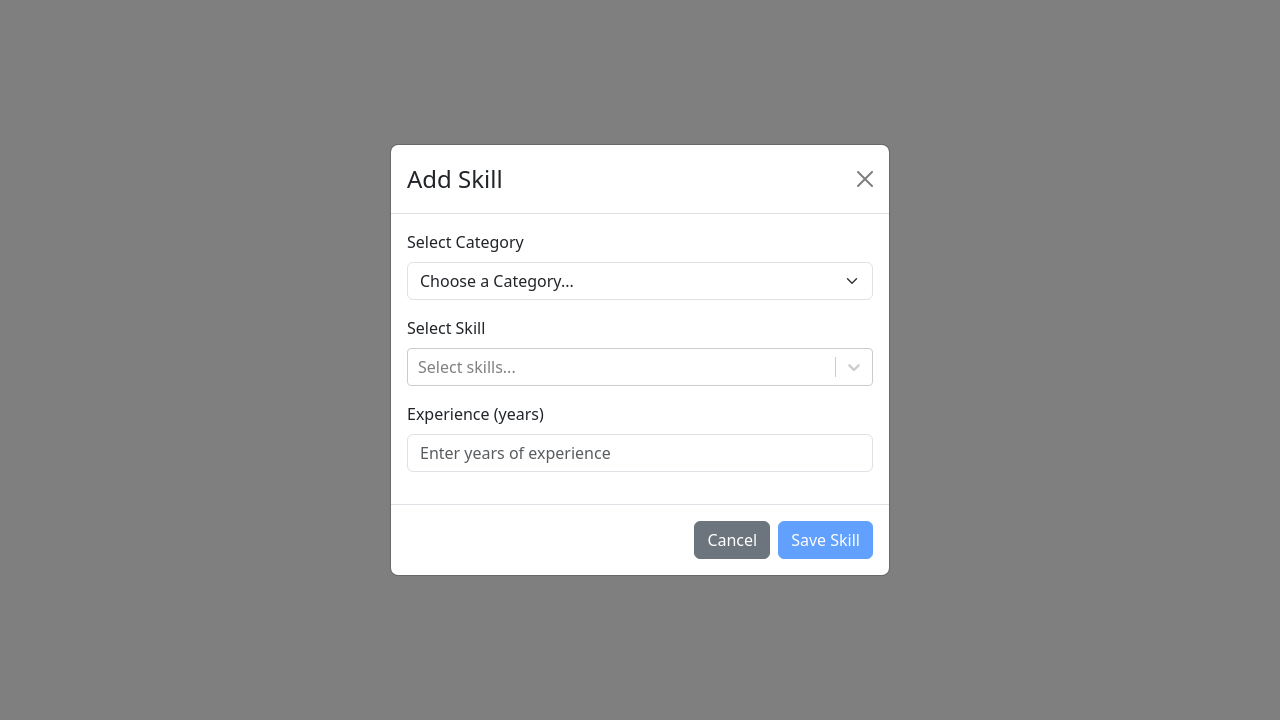
Scenario: AddSkills Modal › validates experience input
Type "0" into the number field with placeholder "Enter years of experience" at (640, 453), box [407,434,873,472]
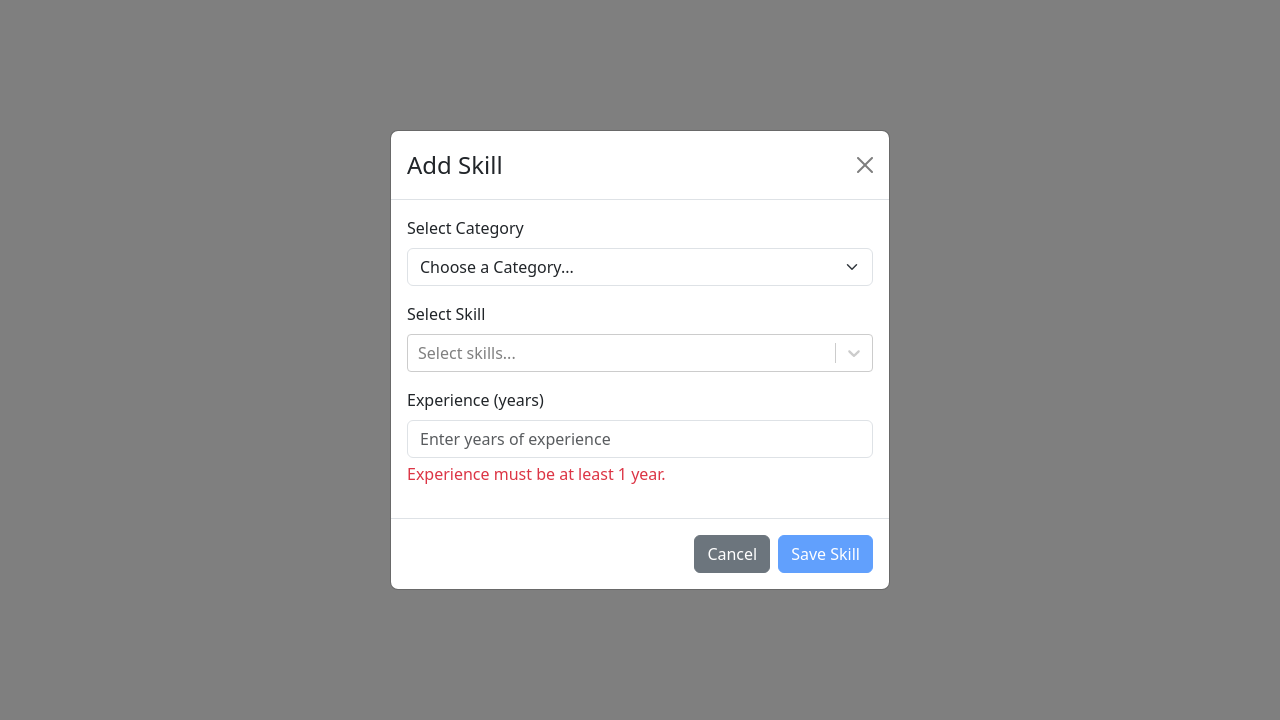
Check: the text "Experience must be at least 1 year." is shown, box [407,463,666,485]
